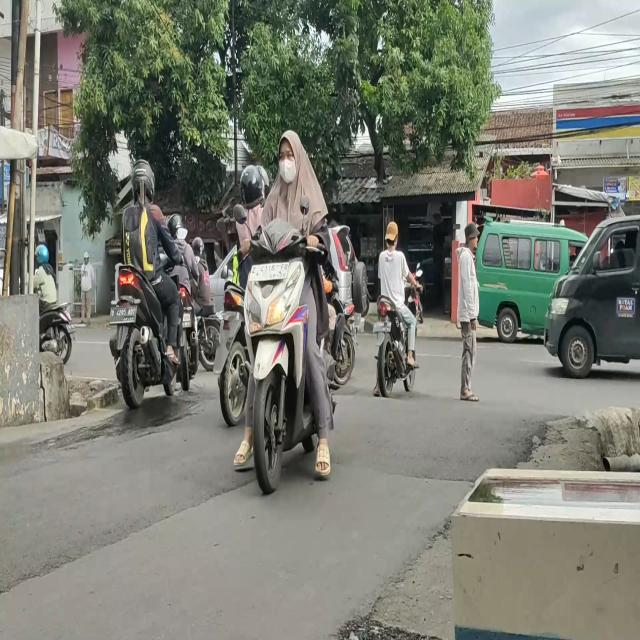helmet: (130, 154, 156, 202), (239, 164, 266, 206), (169, 215, 183, 241), (34, 247, 48, 266), (193, 236, 204, 259)
no-helmet: (276, 129, 307, 181), (384, 223, 398, 250)
